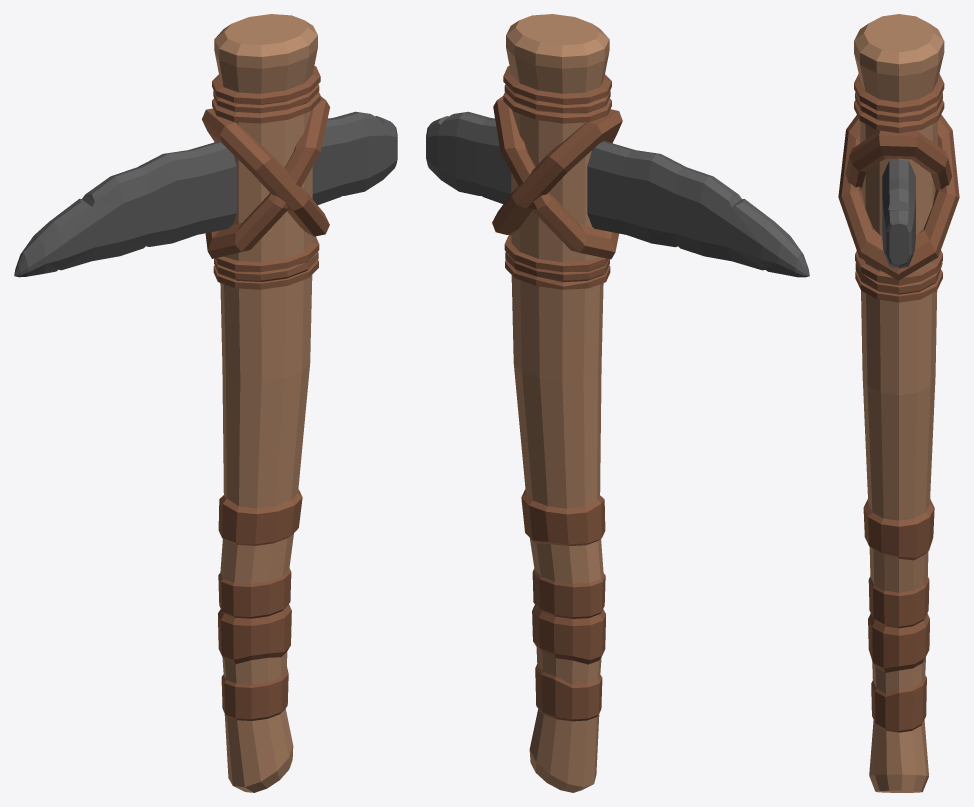
File: Stone Pickaxe.fbx
3 views of the same model, side by side, from view 1: azimuth 30°, elevation 25°; view 2: azimuth 150°, elevation 25°; view 3: azimuth 270°, elevation 25° (orthographic). The views are drawn at different scales.
Visible parts, largest first — view 1: Stone Pickaxe; view 2: Stone Pickaxe; view 3: Stone Pickaxe.
Part boxes in pixels (<box>): Stone Pickaxe: <box>14,14,397,792</box>; Stone Pickaxe: <box>426,14,809,792</box>; Stone Pickaxe: <box>838,14,959,792</box>.
Bounding box in the file's own units: 64.08 × 122 × 17.41.
